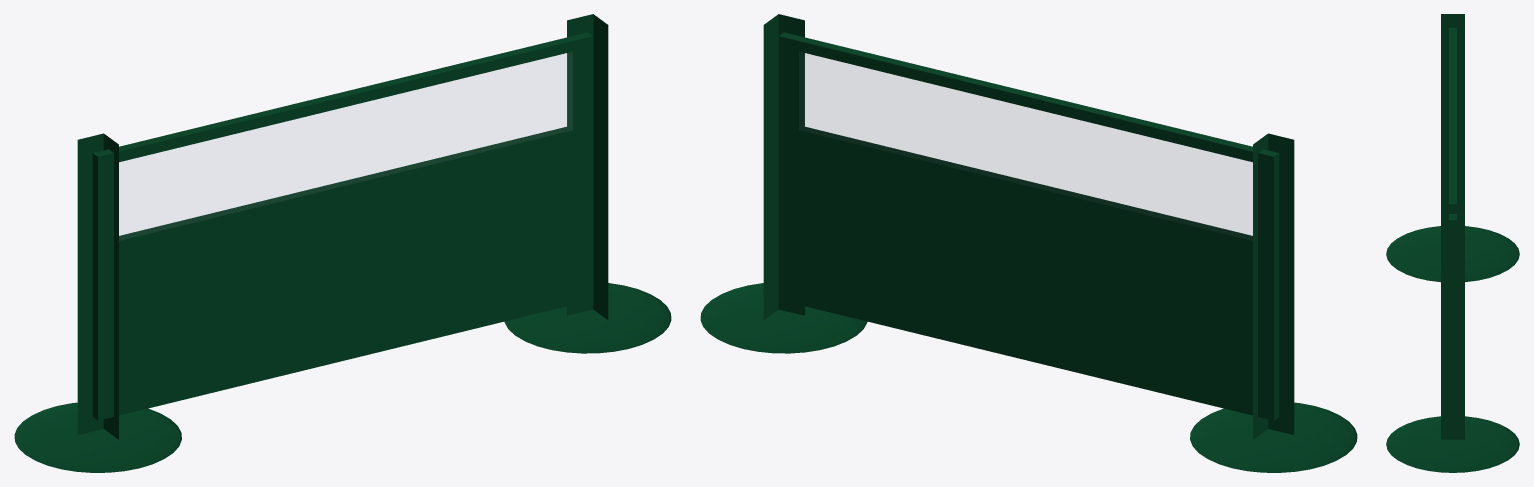
The model's file is tussenschot (1).fbx.
3 views of the same model, side by side, from view 1: azimuth 30°, elevation 25°; view 2: azimuth 150°, elevation 25°; view 3: azimuth 270°, elevation 25° (orthographic). The views are drawn at different scales.
Visible parts, largest first — view 1: Cube, Sphere, Cube.002; view 2: Cube, Sphere, Cube.002; view 3: Sphere, Cube.002, Cube.
Boxes of the visible parts, box(x1,y1,x2,y2) form: Cube: box(92, 32, 593, 420); Sphere: box(14, 283, 671, 472); Cube.002: box(77, 14, 608, 446); Cube: box(778, 32, 1279, 420); Sphere: box(700, 283, 1357, 472); Cube.002: box(763, 14, 1294, 446); Sphere: box(1386, 226, 1519, 472); Cube.002: box(1441, 14, 1464, 449); Cube: box(1449, 27, 1456, 430).
Bounding box in the file's own units: 873 × 395 × 200.
